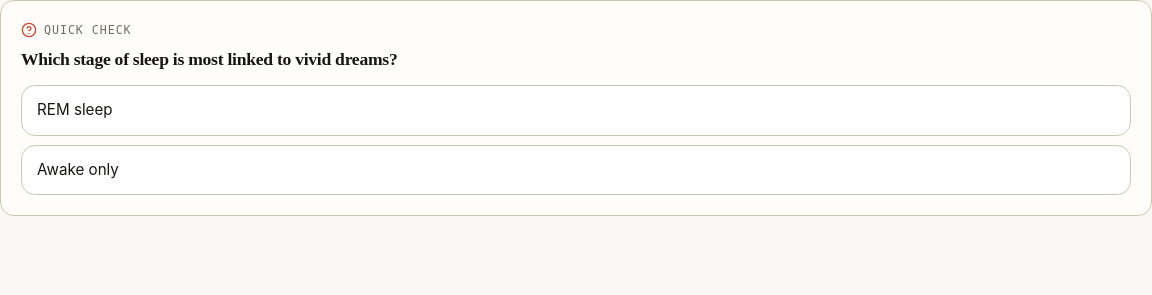
Schema-driven ComponentRegistry & safe rendering › renders interactive QuizCard, grades answer, and shows explanation
Click the radio button labelled "REM sleep".
click(75, 110)  # box [21,85,1131,136]
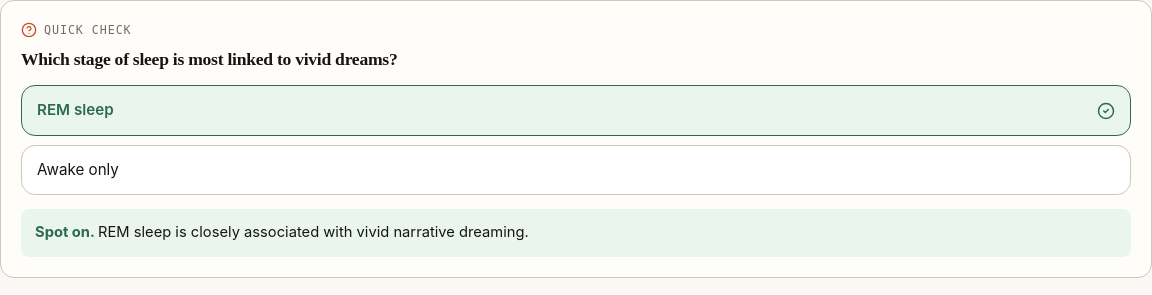
Expected: the text "Spot on." is shown, [35,223,98,241]
Expected: the text "REM sleep is closely associated with vivid narrative dreaming" is shown, [98,223,529,241]
Expected: the radio button labelled "REM sleep" is disabled, [21,85,1131,136]
